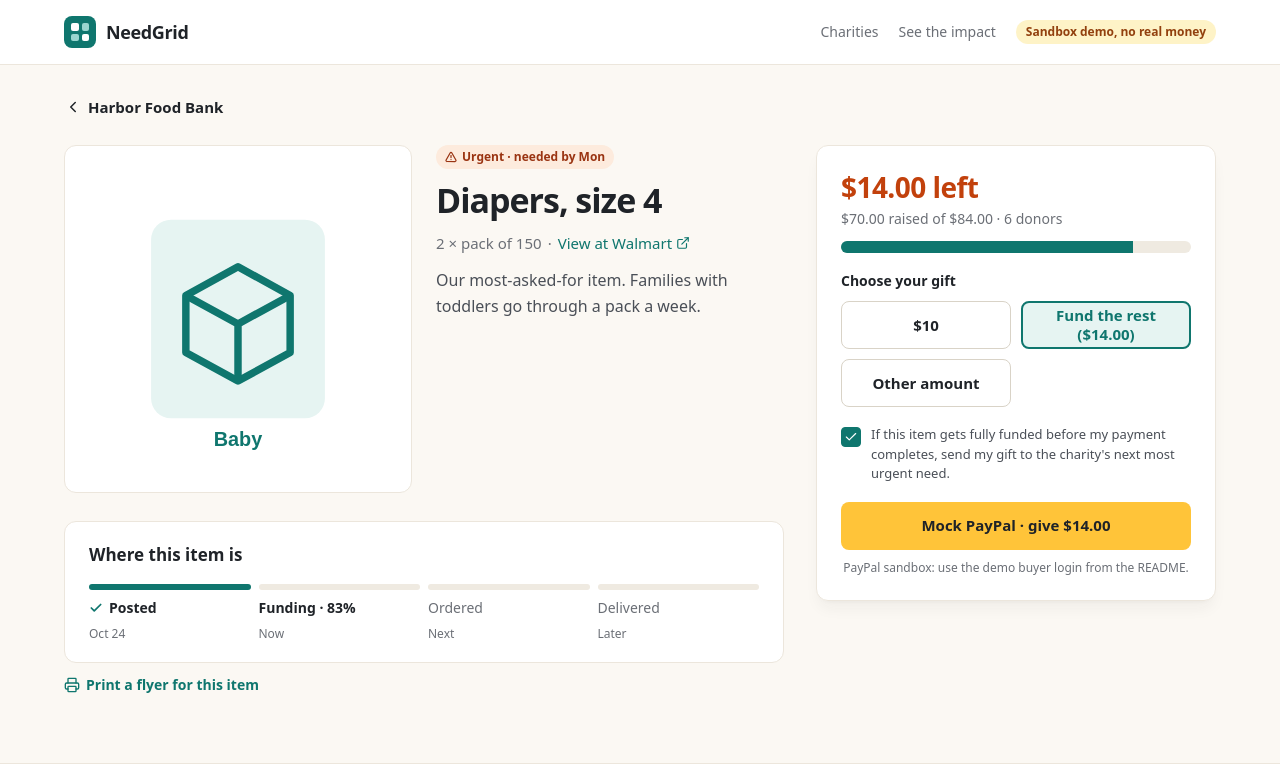
it: DonatePanel with the mock PayPal button › FULLY_FUNDED: nothing charged, and the next most urgent need with its own Fund link
The width and height of the screenshot is (1280, 784).
Click the button "Mock PayPal · give $14.00": click(1016, 526) left=841, top=502, right=1191, bottom=550
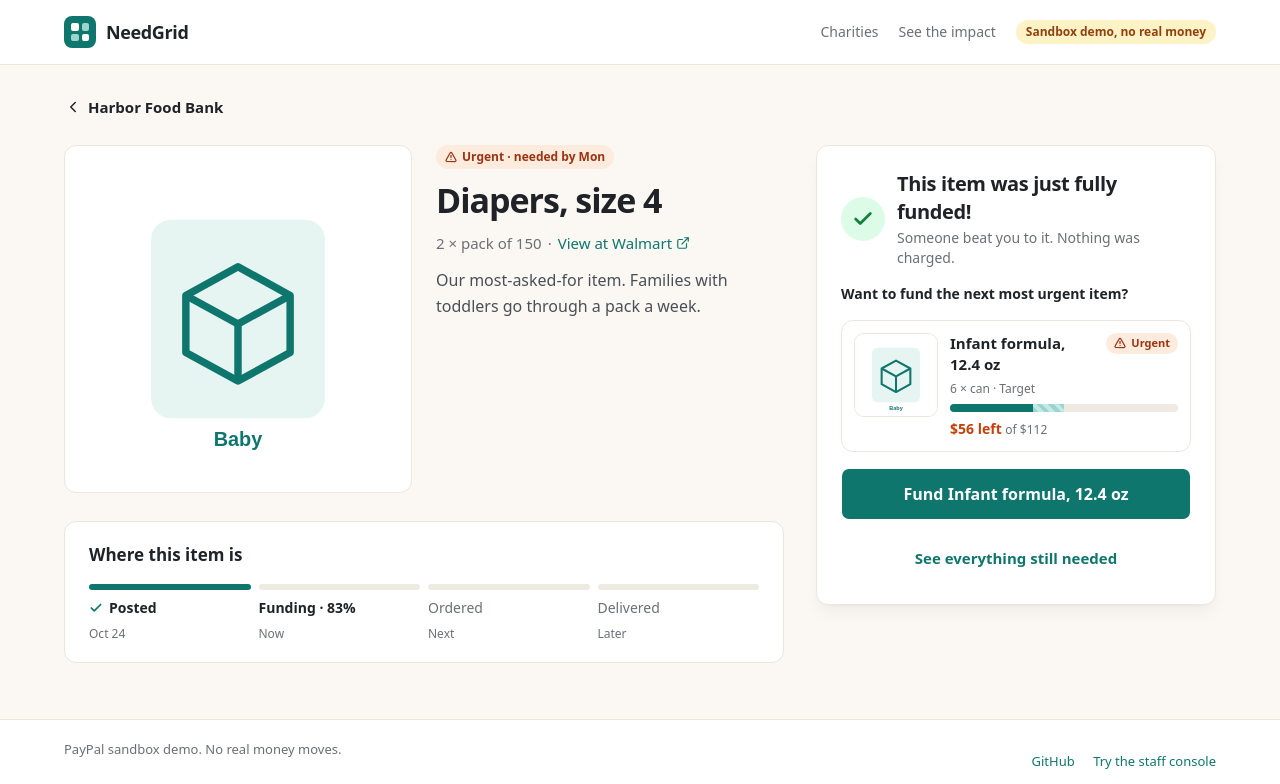
Now the text "Someone beat you to it. Nothing was charged." is shown, box left=897, top=228, right=1140, bottom=267
Now the text "$56 left" is shown, box left=950, top=419, right=1002, bottom=438
